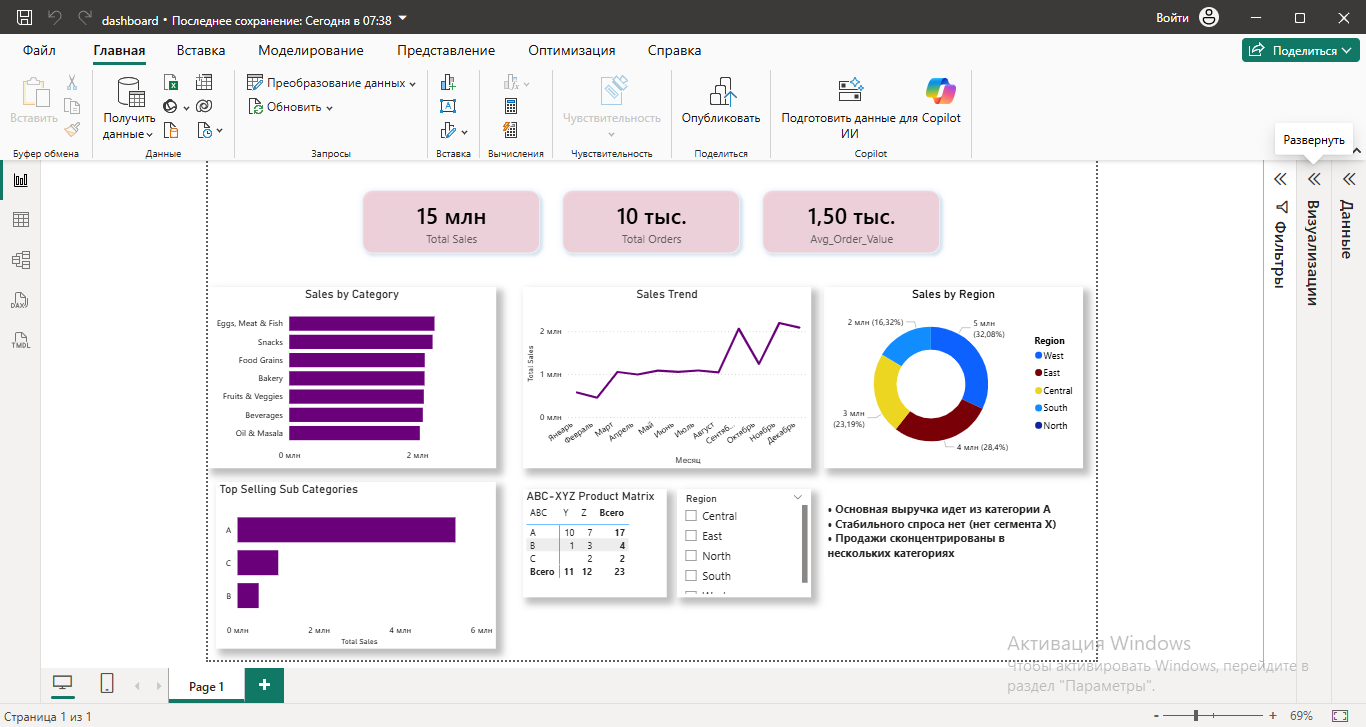

The dashboard page shown, as its layout file describes it:
{"tool":"powerbi","page":{"name":"Page 1","canvas":[1280,720],"ordinal":0},"visuals":[{"type":"clusteredBarChart","title":"Sales by Category","fields":{"Category":["Supermart Grocery Sales - Retai.Category"],"Y":["Supermart Grocery Sales - Retai.Total Sales"]},"box":[0,182.9,414.7,260.6],"z":0},{"type":"donutChart","title":"Sales by Region","fields":{"Category":["Supermart Grocery Sales - Retai.Region"],"Y":["Supermart Grocery Sales - Retai.Total Sales"]},"box":[887,182.9,373,260.6],"z":1000},{"type":"lineChart","title":" Sales Trend","fields":{"Y":["Supermart Grocery Sales - Retai.Total Sales"],"Category":["Supermart Grocery Sales - Retai.Order Date.Variation.Иерархия дат.Месяц"]},"box":[453.6,182.9,414.7,260.6],"z":2000},{"type":"clusteredBarChart","title":"Top Selling Sub Categories","fields":{"Category":["ABC_XYZ.ABC"],"Y":["Supermart Grocery Sales - Retai.Total Sales"]},"box":[11.5,463.7,403.2,240.5],"z":3000},{"type":"pivotTable","title":"ABC-XYZ Product Matrix","fields":{"Rows":["ABC_XYZ.ABC"],"Columns":["ABC_XYZ.XYZ"],"Values":["CountNonNull(ABC_XYZ.Sub Category)"]},"box":[453.6,473.8,207.4,155.5],"z":4000},{"type":"slicer","fields":{"Values":["Supermart Grocery Sales - Retai.Region"]},"box":[675.4,473.8,193,155.5],"z":5000},{"type":"cardVisual","fields":{"Data":["Supermart Grocery Sales - Retai.Total Sales","Supermart Grocery Sales - Retai.Total Orders","Supermart Grocery Sales - Retai.Avg_Order_Value"]},"box":[193,14.4,891.4,149.8],"z":6000},{"type":"textbox","box":[887,486.7,358.6,112.3],"z":7000}]}

Visuals, with their boxes on the page's 1280x720 design canvas (x1, y1, x2, y2). These are canvas units, not pixel positions in the 1366x727 screenshot, which may show the page scaled, cropped or inside an application window:
"Sales by Category" clusteredBarChart: (x1=0, y1=183, x2=415, y2=444)
"Sales by Region" donutChart: (x1=887, y1=183, x2=1260, y2=444)
" Sales Trend" lineChart: (x1=454, y1=183, x2=868, y2=444)
"Top Selling Sub Categories" clusteredBarChart: (x1=12, y1=464, x2=415, y2=704)
"ABC-XYZ Product Matrix" pivotTable: (x1=454, y1=474, x2=661, y2=629)
slicer - Supermart Grocery Sales - Retai.Region: (x1=675, y1=474, x2=868, y2=629)
cardVisual - Supermart Grocery Sales - Retai.Total Sales x Supermart Grocery Sales - Retai.Total Orders: (x1=193, y1=14, x2=1084, y2=164)
textbox: (x1=887, y1=487, x2=1246, y2=599)
